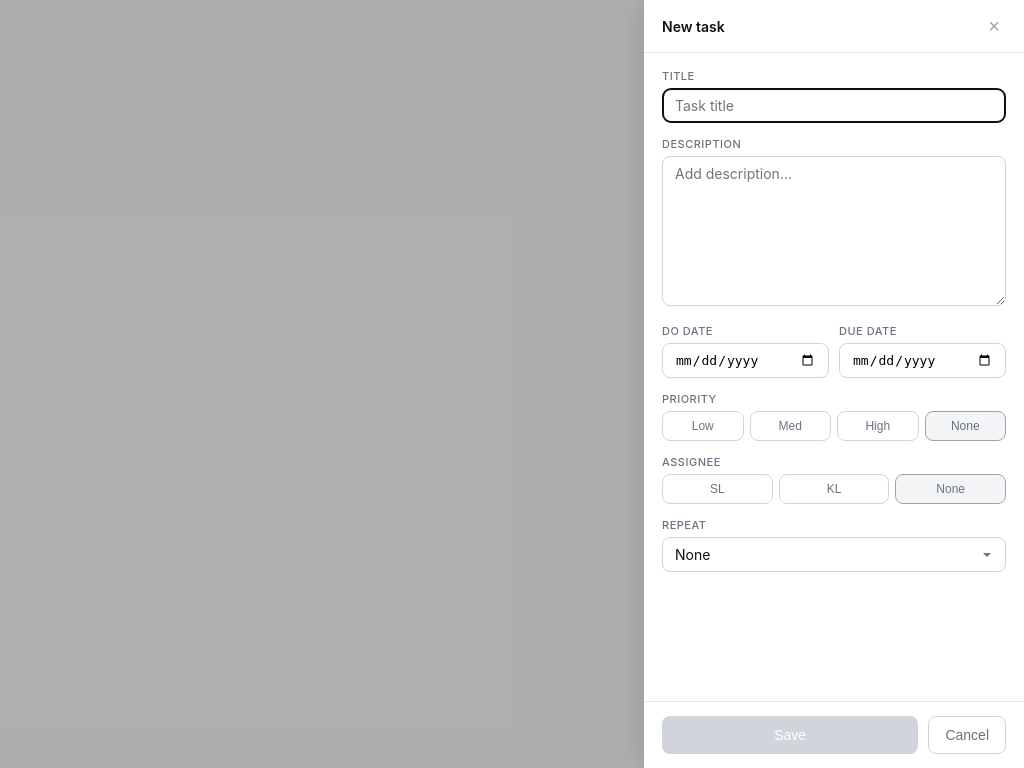
Test: TaskDrawer — recurrence fields › shows mode toggle when recurrence is set
Select "Daily" in the dropdown labelled "Repeat": point(834, 554) [662,537,1006,572]
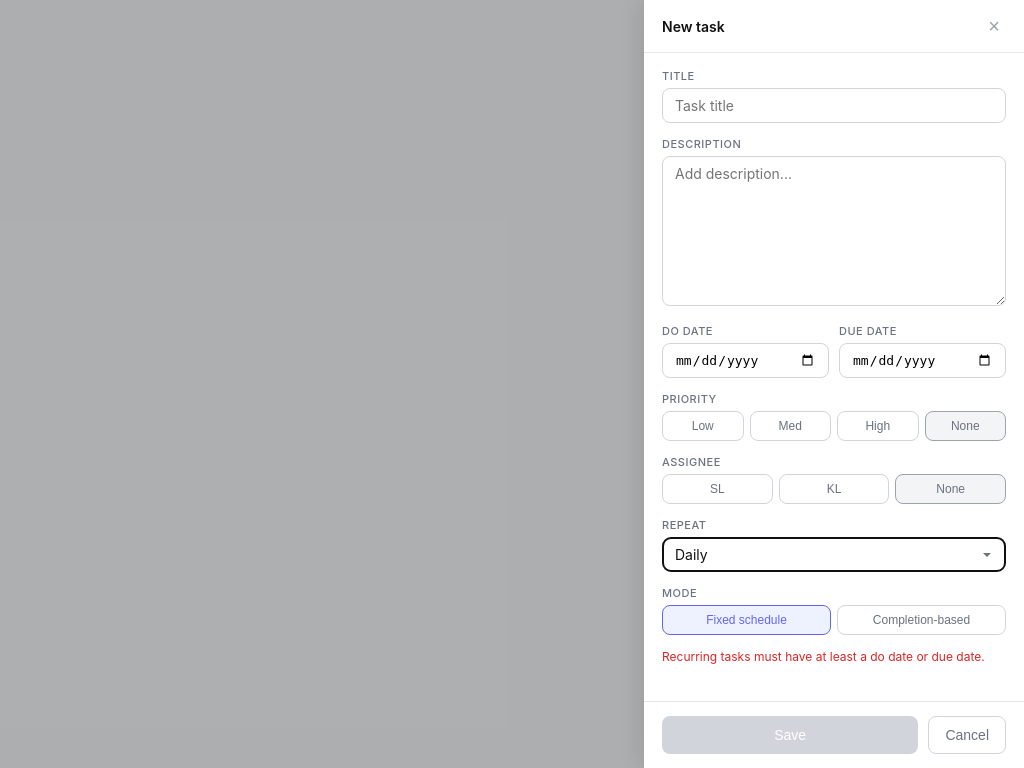
expect the button "Fixed schedule" is shown: met, box [662,605,831,635]
expect the button "Completion-based" is shown: met, box [837,605,1006,635]
